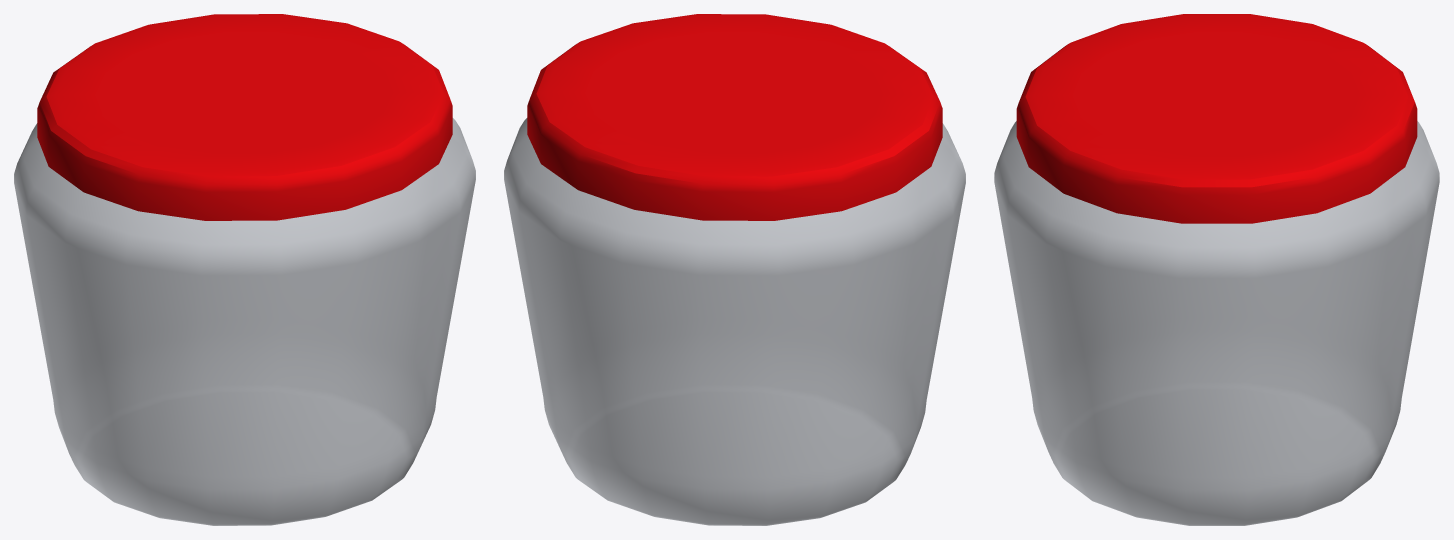
File: botellam_plastica_Color.fbx
3 renders of one model, left to right at view 1: azimuth 30°, elevation 25°; view 2: azimuth 150°, elevation 25°; view 3: azimuth 270°, elevation 25°, orthographic.
Visible parts, largest first — view 1: MuestraPlastico; view 2: MuestraPlastico; view 3: MuestraPlastico.
Boxes of the visible parts, box(x1,y1,x2,y2) form: MuestraPlastico: box(14, 14, 475, 525); MuestraPlastico: box(504, 14, 965, 525); MuestraPlastico: box(994, 14, 1439, 525).
Size of the model in its own units: 13.37 by 11.74 by 13.07.
